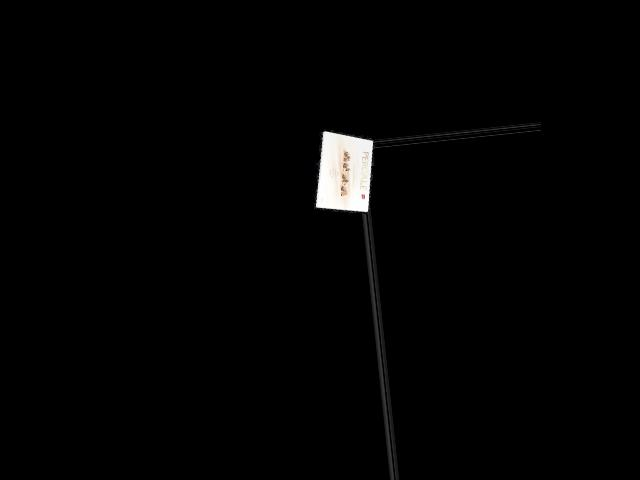chocolate: (305, 130, 379, 214)
